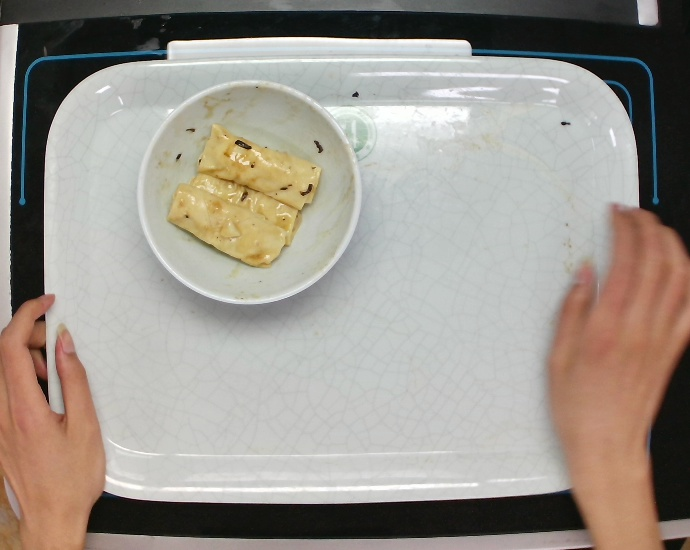JYsf-Fan_Wan: (133, 76, 366, 306)
